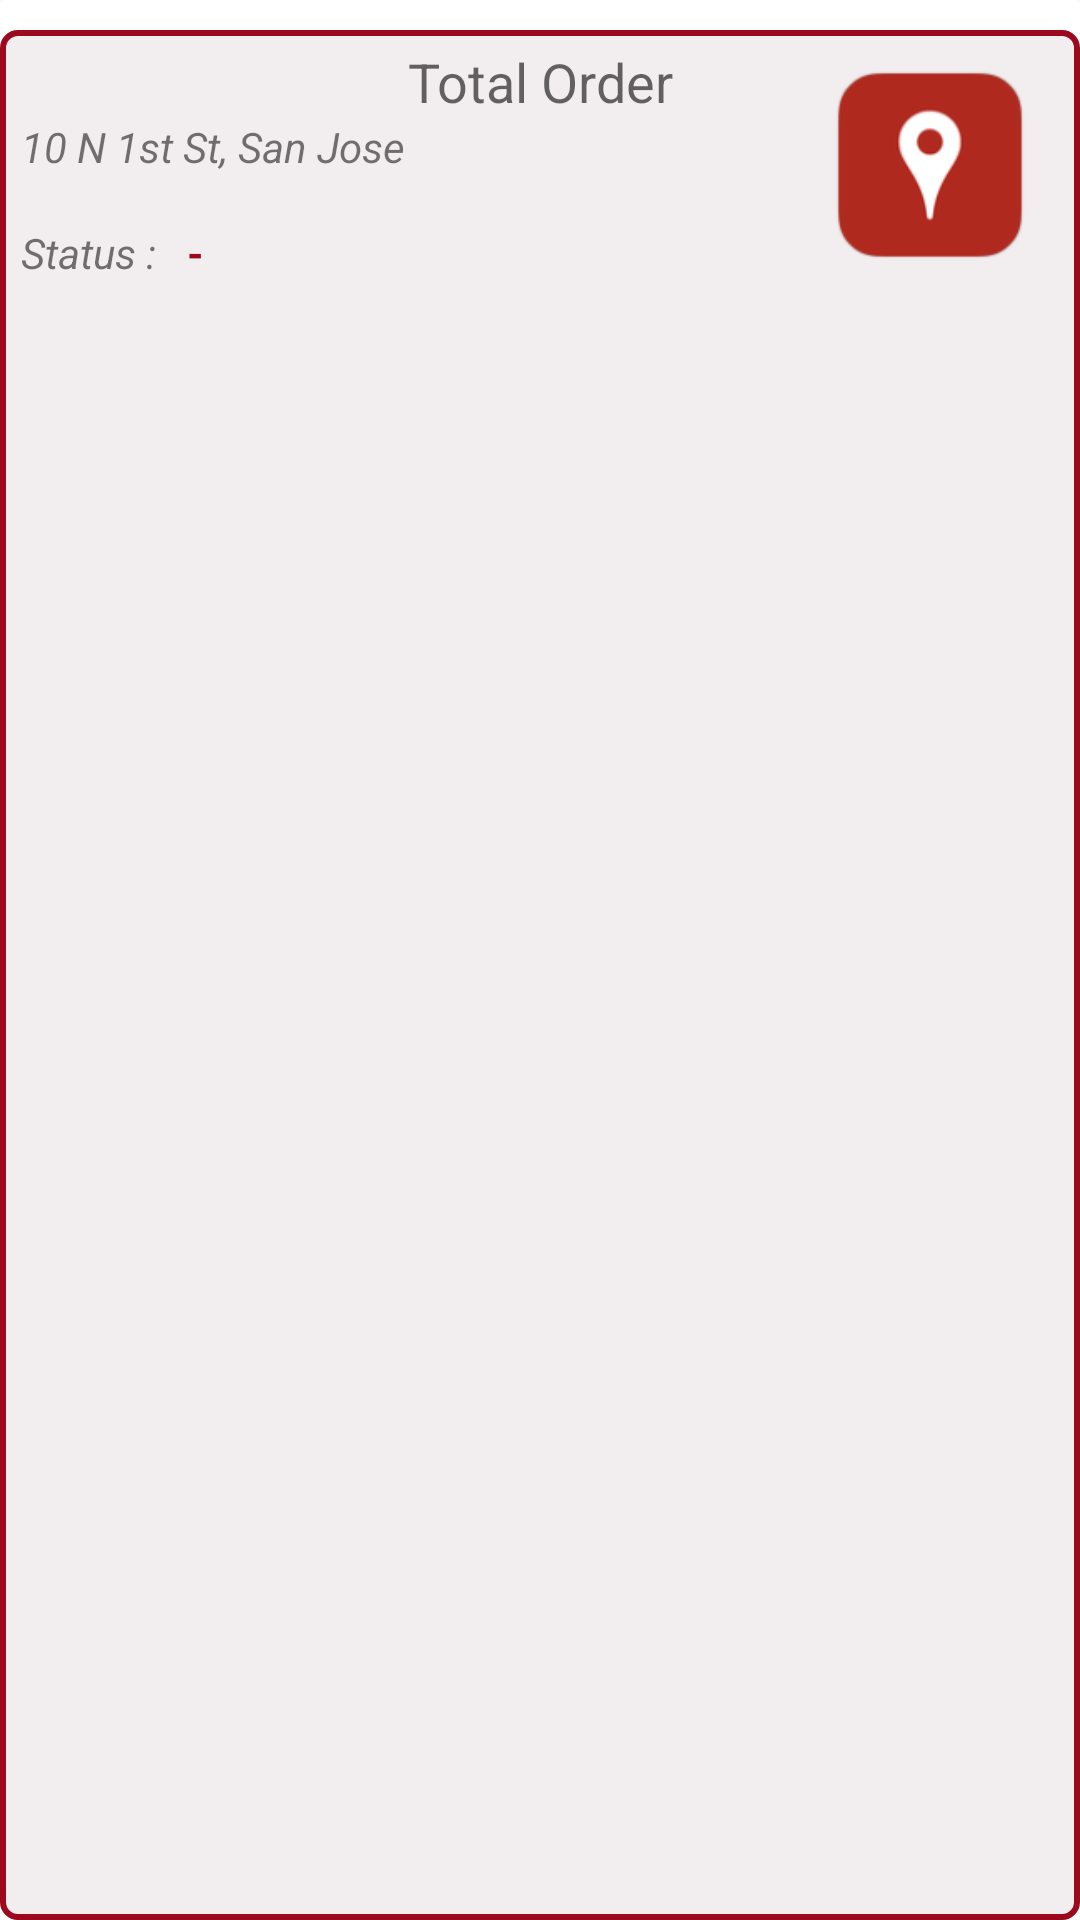

Icons on this 1080w x 1920h Android screen, each with its box as Rect(x1, y1, x2, y2):
trackorder: Rect(838, 73, 1022, 257)
